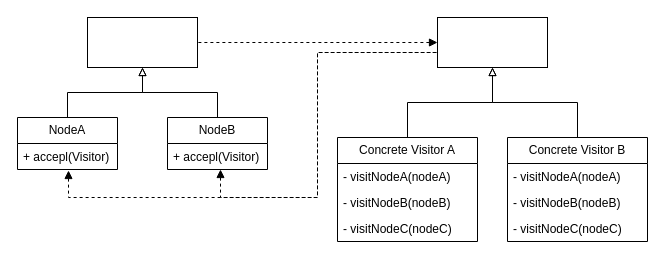
Some shapes in this 665 by 262 pixel diagram are drawn without their labels. The box of each missing label's shape, as (x1, y1, x2, y2) in pixels:
«interface» Node: (86, 16, 198, 68)
«interface» Visitor: (436, 16, 548, 68)
